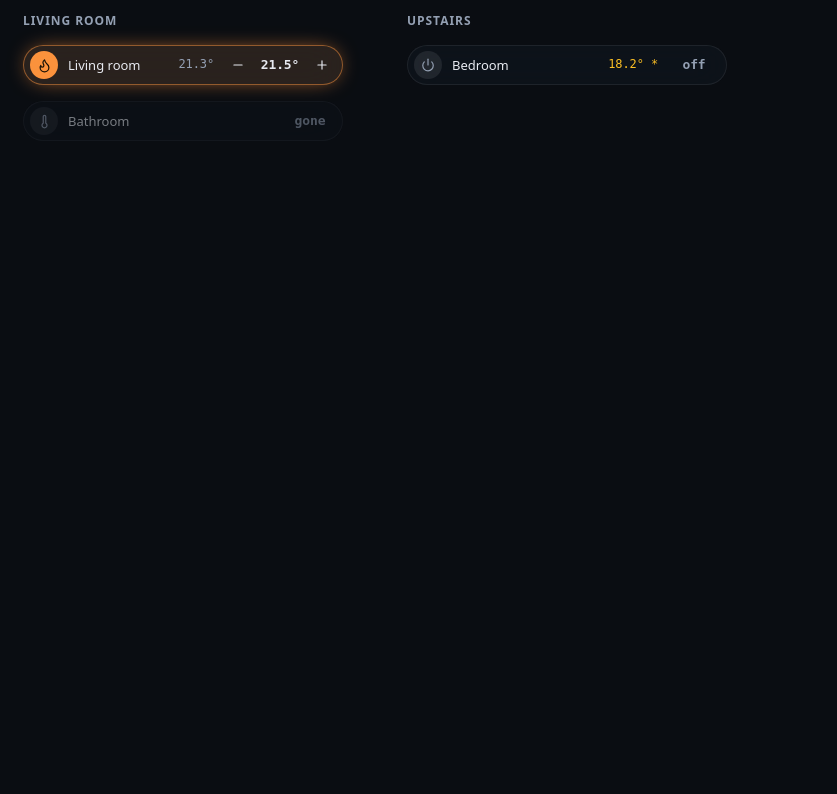
Test: says why a thermostat was not set and leaves it as it was
This screenshot has width=837, height=794.
Click the button named "Warmer: Living room" at (322, 65), box [308, 51, 336, 79]
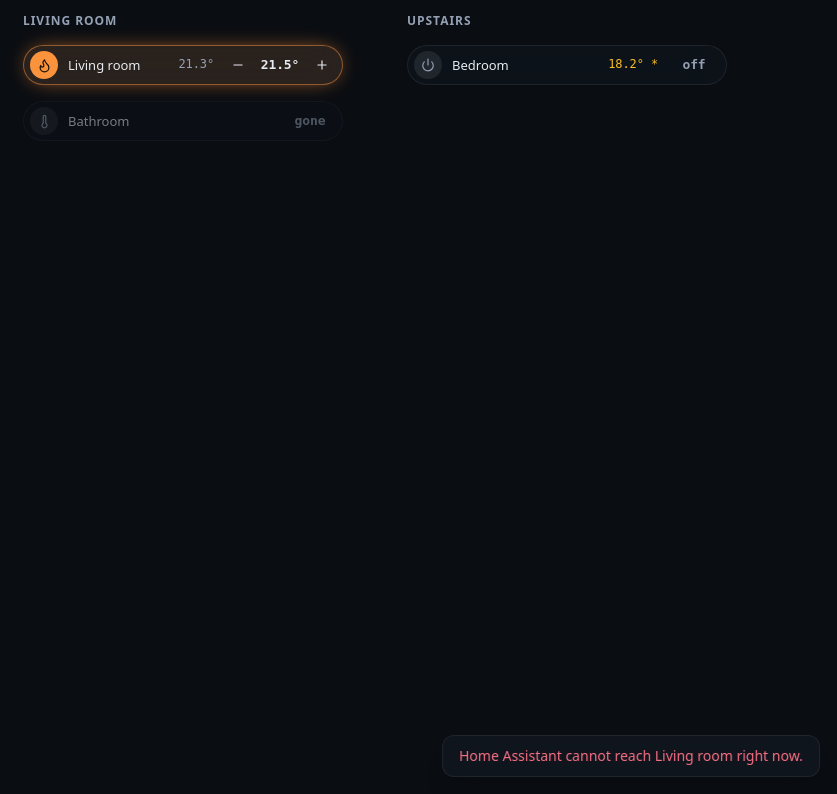
expect the text "21.5°" is shown: met, box [261, 57, 299, 72]
expect the text "Home Assistant cannot reach Living room right now." is shown: met, box [442, 735, 820, 777]
